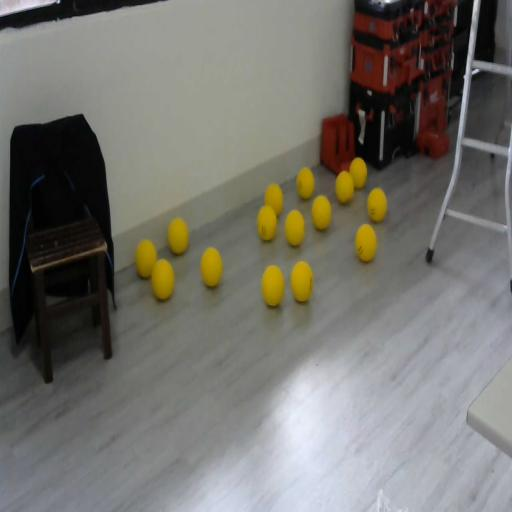FUEL: (150, 257, 175, 301), (290, 259, 314, 303), (199, 246, 223, 288), (134, 238, 158, 280), (262, 265, 284, 307), (355, 224, 377, 262), (284, 208, 305, 247), (256, 204, 278, 241), (168, 218, 188, 255), (312, 195, 332, 230), (367, 188, 387, 222), (335, 170, 354, 203), (349, 157, 368, 189), (296, 167, 314, 199)
